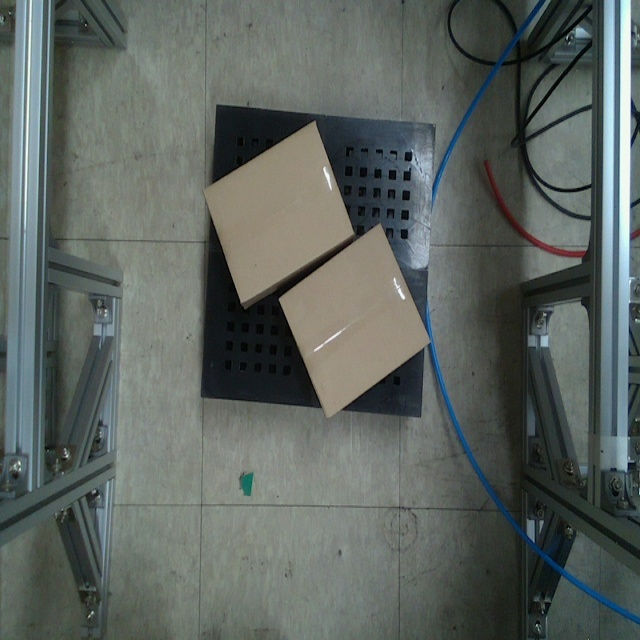box: (277, 222, 433, 419), (201, 119, 355, 305)
pallet: (199, 102, 438, 421)
